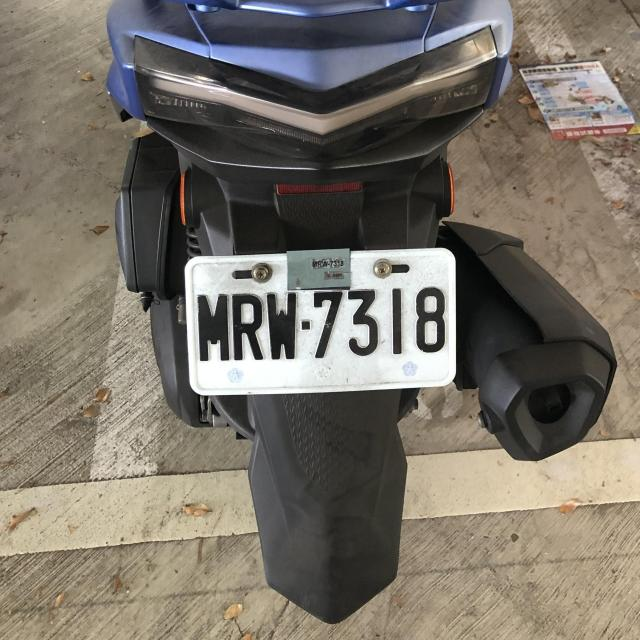W: (184, 248, 455, 395)
